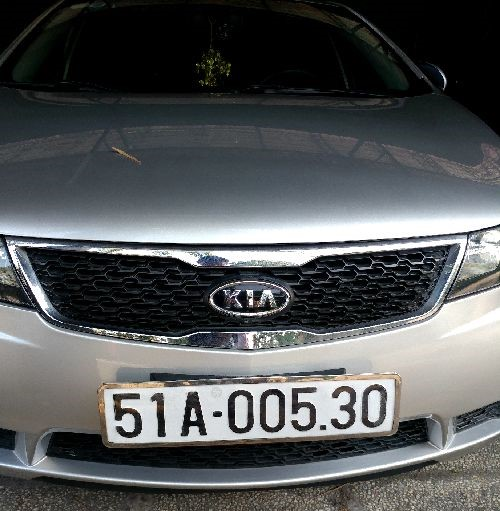number_plate: (82, 367, 417, 462)
